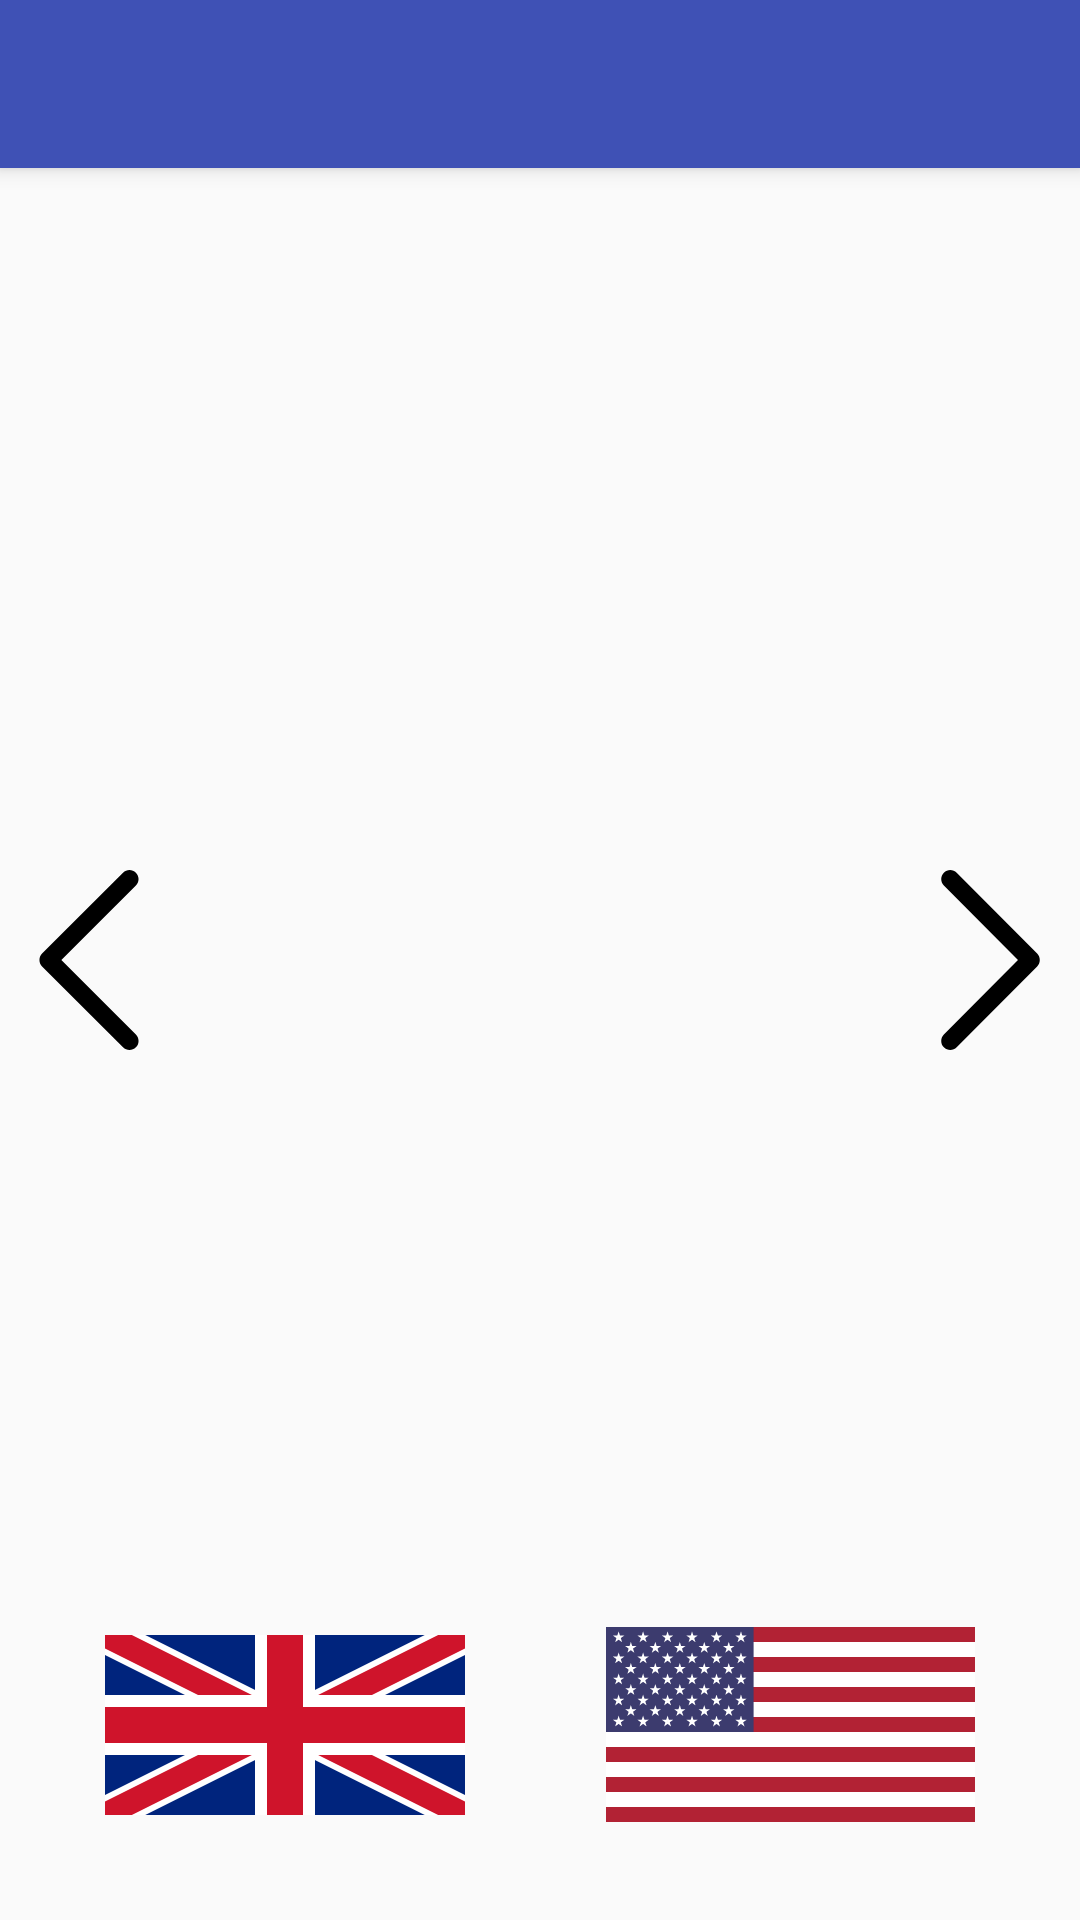

Locate icon controls on the screen. Image size 1080px×1920px, boxes as (x1, y1, x2, y2).
arrow left: (39, 870, 139, 1050)
arrow right: (941, 870, 1040, 1050)
uk flag: (105, 1635, 465, 1815)
